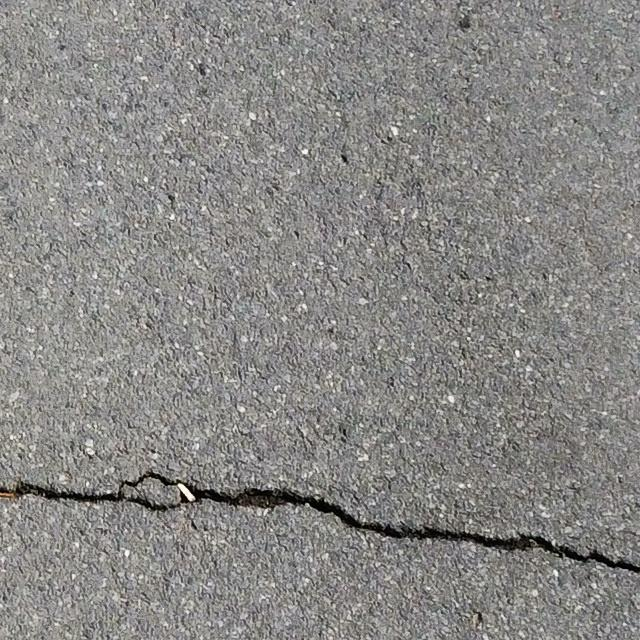TransverseCrack: (1, 467, 640, 572)
